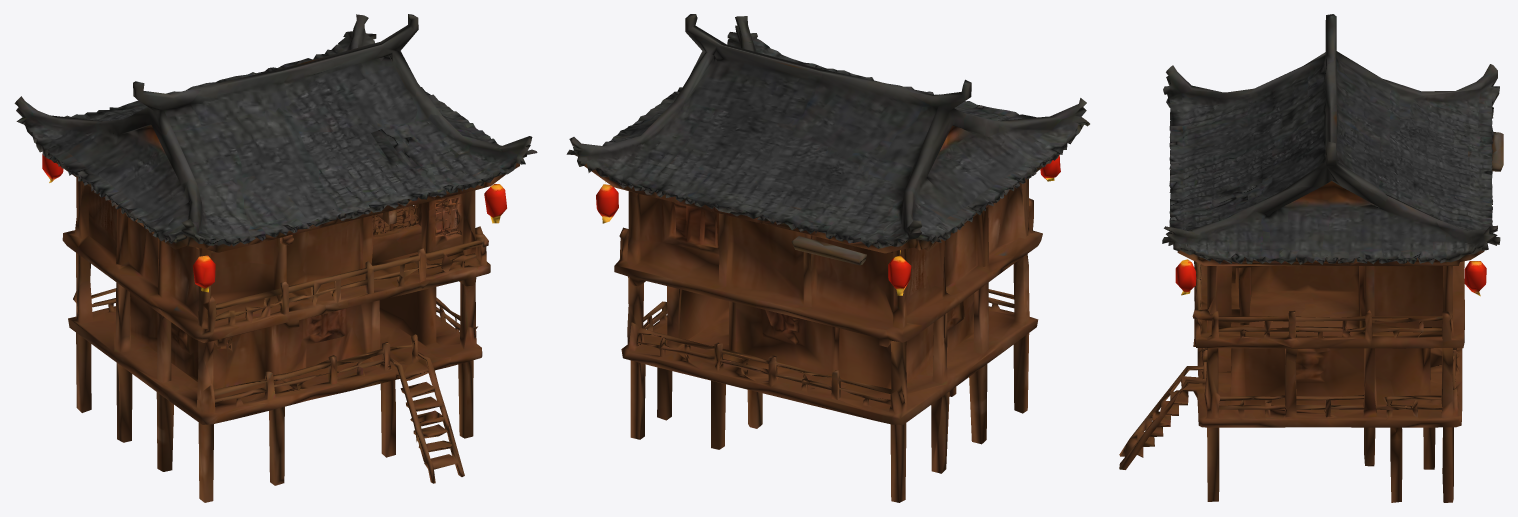
The model's file is h_stilt.glb.
3 views of the same model, side by side, from view 1: azimuth 30°, elevation 25°; view 2: azimuth 150°, elevation 25°; view 3: azimuth 270°, elevation 25° (orthographic). The views are drawn at different scales.
Parts seen in each view (by area): view 1: tripo_node_cfc71d93-e7bf-4157-a4f8-b7eb0a034718; view 2: tripo_node_cfc71d93-e7bf-4157-a4f8-b7eb0a034718; view 3: tripo_node_cfc71d93-e7bf-4157-a4f8-b7eb0a034718.
Boxes of the visible parts, <box> form: tripo_node_cfc71d93-e7bf-4157-a4f8-b7eb0a034718: <box>14,14,537,502</box>; tripo_node_cfc71d93-e7bf-4157-a4f8-b7eb0a034718: <box>566,14,1089,502</box>; tripo_node_cfc71d93-e7bf-4157-a4f8-b7eb0a034718: <box>1119,14,1503,502</box>.
Bounding box in the file's own units: 0.9989 × 0.9961 × 0.9586.
Materials: 1 (1 with a texture image).
